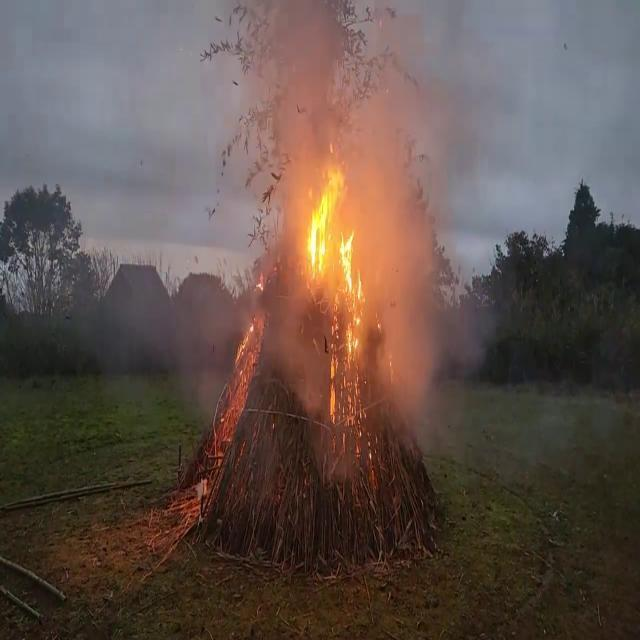Fire: (303, 153, 369, 411), (217, 299, 266, 457)
Smoke: (346, 8, 476, 446)
